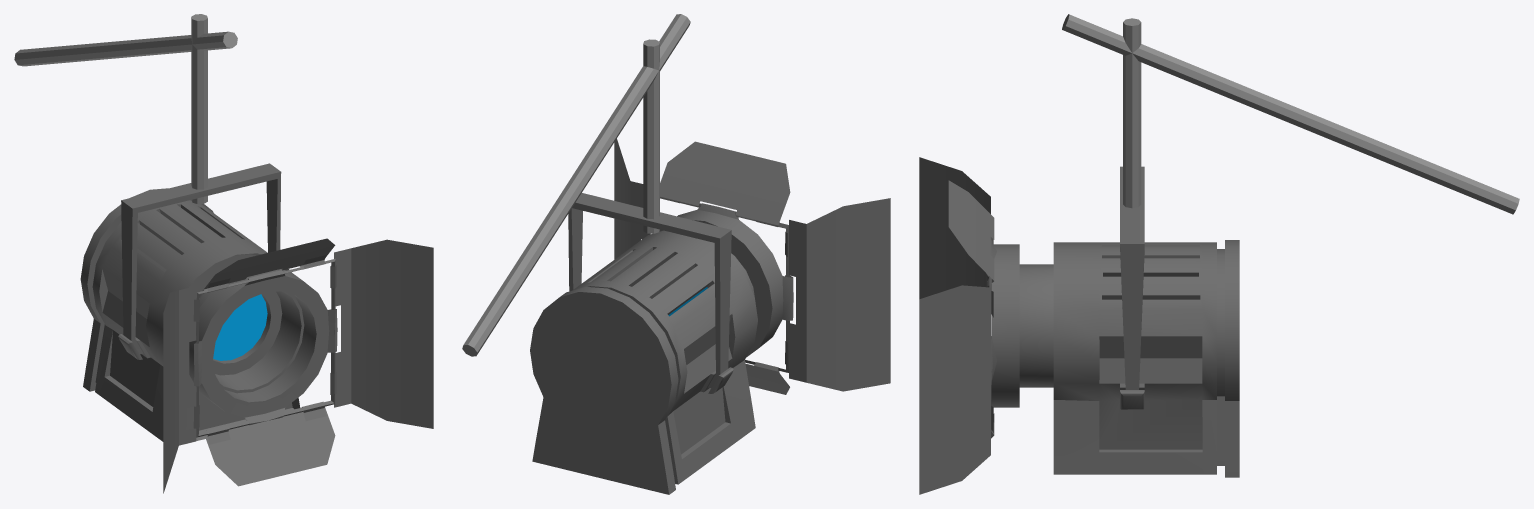
File: wallLight.fbx
3 views of the same model, side by side, from view 1: azimuth 30°, elevation 25°; view 2: azimuth 150°, elevation 25°; view 3: azimuth 270°, elevation 25° (orthographic). The views are drawn at different scales.
Visible parts, largest first — view 1: polySurface2, right, bottom, polySurface1, left, pCylinder3, pCylinder1, top, sweep1; view 2: polySurface2, left, top, pCylinder3, polySurface1, pCylinder1, right, bottom, sweep1; view 3: polySurface2, right, pCylinder3, left, polySurface1, pCylinder1, top.
Boxes of the visible parts, bbox=[...] form: polySurface2: bbox=[80, 188, 337, 441]; right: bbox=[330, 239, 433, 428]; bottom: bbox=[205, 401, 335, 486]; polySurface1: bbox=[121, 163, 281, 354]; left: bbox=[163, 286, 199, 493]; pCylinder3: bbox=[14, 31, 237, 66]; pCylinder1: bbox=[191, 14, 207, 189]; top: bbox=[203, 238, 335, 292]; sweep1: bbox=[196, 258, 335, 437]; polySurface2: bbox=[530, 203, 793, 494]; left: bbox=[785, 198, 890, 391]; top: bbox=[660, 141, 790, 226]; pCylinder3: bbox=[462, 14, 690, 356]; polySurface1: bbox=[568, 193, 731, 387]; pCylinder1: bbox=[643, 39, 659, 219]; right: bbox=[614, 139, 647, 259]; bottom: bbox=[745, 362, 789, 394]; sweep1: bbox=[648, 201, 789, 372]; polySurface2: bbox=[986, 239, 1239, 477]; right: bbox=[919, 285, 993, 494]; pCylinder3: bbox=[1062, 14, 1519, 214]; left: bbox=[919, 157, 993, 299]; polySurface1: bbox=[1120, 166, 1144, 389]; pCylinder1: bbox=[1123, 18, 1141, 208]; top: bbox=[948, 180, 994, 283].
Bounding box in the file's own units: 3.99 × 5.68 × 7.12.
